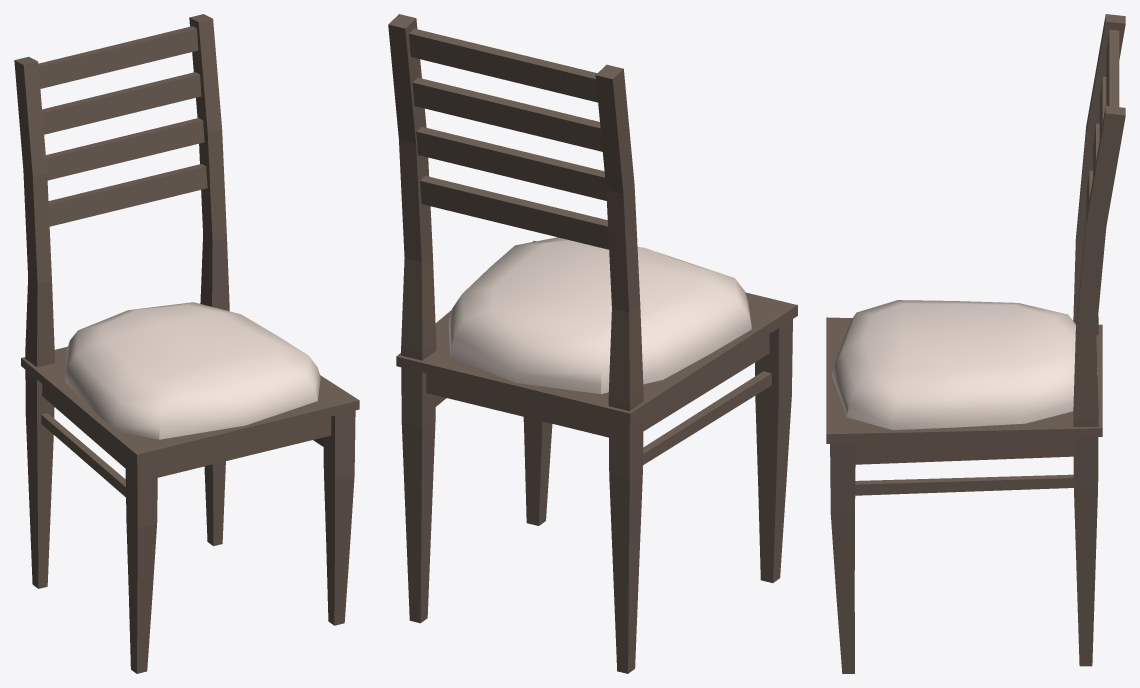
The model's file is chair_2.glb.
3 views of the same model, side by side, from view 1: azimuth 30°, elevation 25°; view 2: azimuth 150°, elevation 25°; view 3: azimuth 270°, elevation 25° (orthographic). The views are drawn at different scales.
Visible parts, largest first — view 1: Chair_2; view 2: Chair_2; view 3: Chair_2.
Boxes of the visible parts, left/top/right/bottom form: Chair_2: left=14, top=14, right=359, bottom=673; Chair_2: left=388, top=14, right=797, bottom=673; Chair_2: left=826, top=14, right=1125, bottom=673.
Bounding box in the file's own units: 0.7616 × 1.69 × 0.8254.
